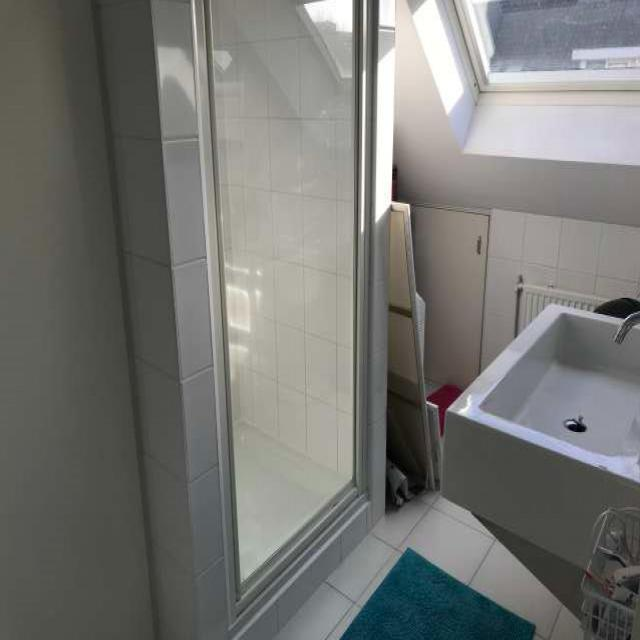douche: (94, 0, 399, 640)
wastafel: (442, 302, 640, 576)
